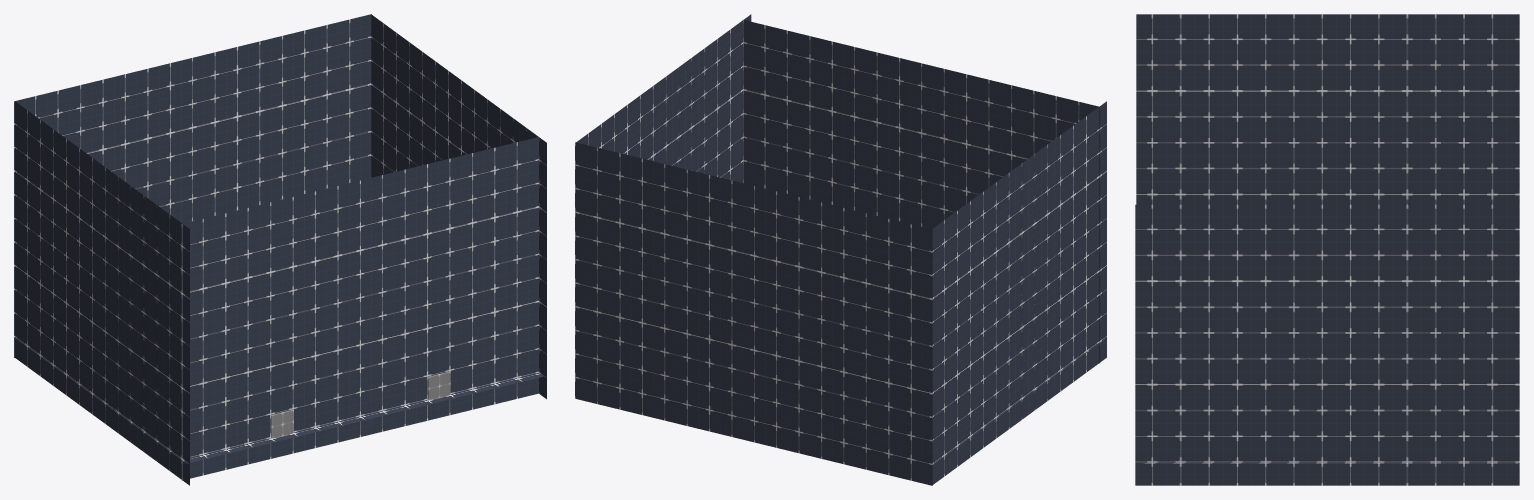
Rendered from Level 1 test.fbx.
3 renders of one model, left to right at view 1: azimuth 30°, elevation 25°; view 2: azimuth 150°, elevation 25°; view 3: azimuth 270°, elevation 25°, orthographic. The views are drawn at different scales.
Parts seen in each view (by area): view 1: arena, level cube.006, level cube.007; view 2: arena; view 3: arena.
Part boxes in pixels (x1,y1,x2,y2): arena: [14, 14, 546, 485]; level cube.006: [427, 371, 450, 400]; level cube.007: [271, 409, 293, 438]; arena: [575, 14, 1106, 485]; arena: [1135, 14, 1519, 485].
Size of the model in its own units: 1897 by 1300 by 1612.
